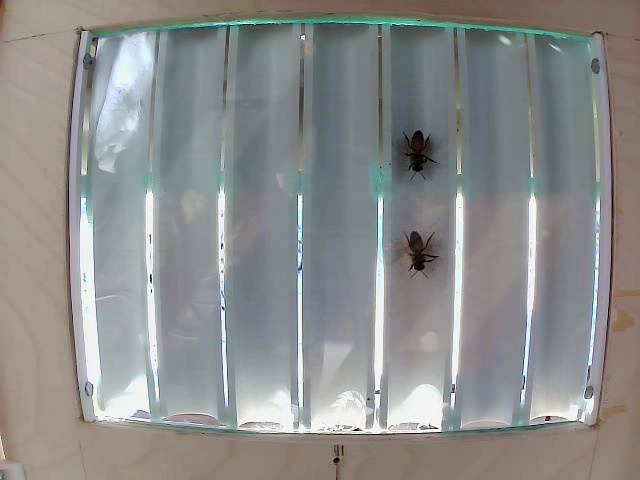bee: (395, 223, 437, 284), (402, 128, 435, 196)
